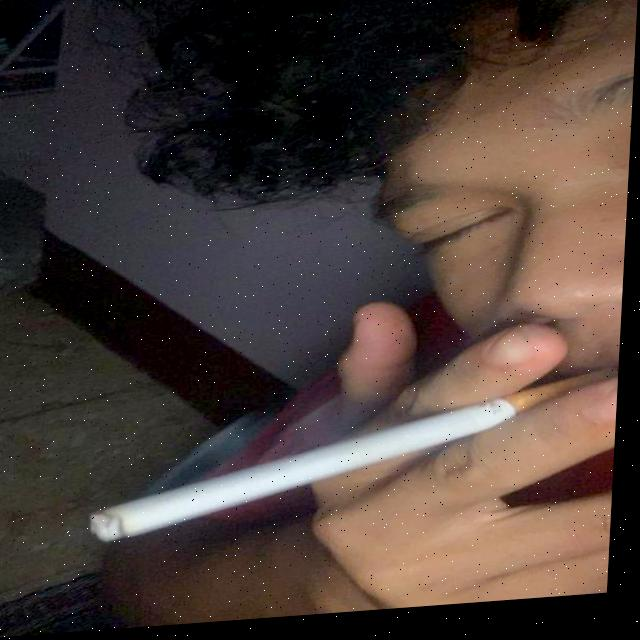cigarette: (98, 379, 623, 544)
